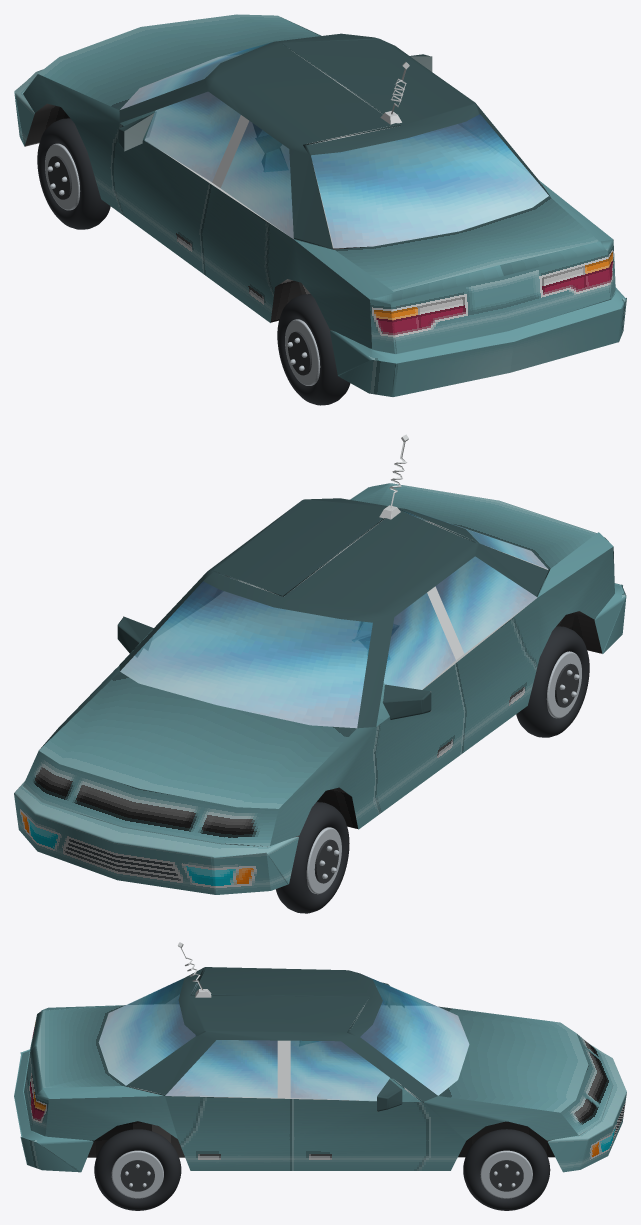
Rendered from car-ccella.glb.
3 views of the same model, one above another, from view 1: azimuth 30°, elevation 25°; view 2: azimuth 150°, elevation 25°; view 3: azimuth 270°, elevation 25° (orthographic). The views are drawn at different scales.
Parts seen in each view (by area): view 1: cCellAShape.001, cCellAShape.004, cCellAShape.005, cCellAShape.002, Rounded tire.033, Rounded tire.032, cCellAShape, Alloy rim.033, Alloy rim.032, Rim recess.064, Rim recess.066; view 2: cCellAShape.001, cCellAShape.004, cCellAShape.005, cCellAShape.002, Rounded tire.032, Rounded tire.033, cCellAShape, Alloy rim.033, Alloy rim.032, Rim recess.066, Rim recess.064; view 3: cCellAShape.001, cCellAShape.004, cCellAShape.005, cCellAShape.003, cCellAShape.002, Rounded tire.034, Rounded tire.035, cCellAShape, Alloy rim.034, Alloy rim.035, Rim recess.069, Rim recess.071.
Boxes of the visible parts, left/top/right/bottom form: cCellAShape.001: left=38, top=14, right=626, bottom=396; cCellAShape.004: left=14, top=52, right=548, bottom=248; cCellAShape.005: left=120, top=42, right=548, bottom=248; cCellAShape.002: left=23, top=17, right=613, bottom=348; Rounded tire.033: left=37, top=118, right=110, bottom=229; Rounded tire.032: left=277, top=294, right=350, bottom=405; cCellAShape: left=22, top=103, right=618, bottom=342; Alloy rim.033: left=45, top=143, right=80, bottom=210; Alloy rim.032: left=285, top=319, right=320, bottom=385; Rim recess.064: left=288, top=331, right=311, bottom=375; Rim recess.066: left=48, top=156, right=71, bottom=199; cCellAShape.001: left=39, top=483, right=626, bottom=808; cCellAShape.004: left=14, top=520, right=548, bottom=894; cCellAShape.005: left=120, top=510, right=547, bottom=728; cCellAShape.002: left=39, top=547, right=614, bottom=845; Rounded tire.032: left=516, top=626, right=589, bottom=737; Rounded tire.033: left=275, top=802, right=349, bottom=913; cCellAShape: left=225, top=611, right=602, bottom=859; Alloy rim.033: left=306, top=827, right=341, bottom=894; Alloy rim.032: left=546, top=651, right=581, bottom=718; Rim recess.066: left=314, top=839, right=338, bottom=883; Rim recess.064: left=555, top=663, right=578, bottom=707; cCellAShape.001: left=14, top=967, right=588, bottom=1172; cCellAShape.004: left=99, top=993, right=626, bottom=1172; cCellAShape.005: left=98, top=975, right=469, bottom=1101; cCellAShape.003: left=165, top=1096, right=465, bottom=1170; cCellAShape.002: left=45, top=1096, right=578, bottom=1140; Rounded tire.034: left=463, top=1129, right=550, bottom=1210; Rounded tire.035: left=94, top=1129, right=181, bottom=1210; cCellAShape: left=44, top=1087, right=554, bottom=1157; Alloy rim.034: left=480, top=1150, right=532, bottom=1198; Alloy rim.035: left=111, top=1150, right=163, bottom=1198; Rim recess.069: left=489, top=1160, right=523, bottom=1191; Rim recess.071: left=120, top=1160, right=154, bottom=1191.
Size of the model in its own units: 2.47 by 2.22 by 5.54.
Materials: 9 (6 with a texture image).
